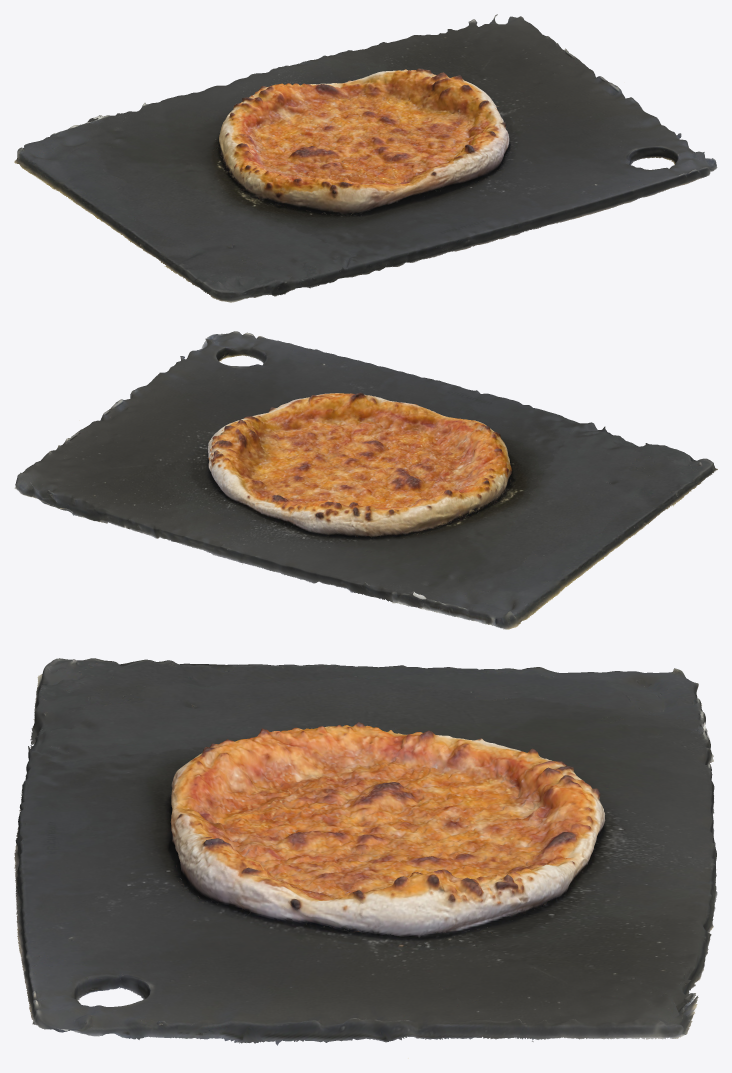
The model's file is 3d_pizza.glb.
The picture shows the model from 3 angles, top to bottom: view 1: azimuth 30°, elevation 25°; view 2: azimuth 150°, elevation 25°; view 3: azimuth 270°, elevation 25°; orthographic projection. The views are drawn at different scales.
Visible parts, largest first — view 1: Textured_mesh_1; view 2: Textured_mesh_1; view 3: Textured_mesh_1.
Part boxes in pixels (x1=…): Textured_mesh_1: x1=14, y1=14, x2=717, y2=302; Textured_mesh_1: x1=14, y1=331, x2=717, y2=629; Textured_mesh_1: x1=14, y1=658, x2=717, y2=1058.
Bounding box in the file's own units: 49.54 × 5.12 × 36.75.
Materials: 2 (2 with a texture image).
